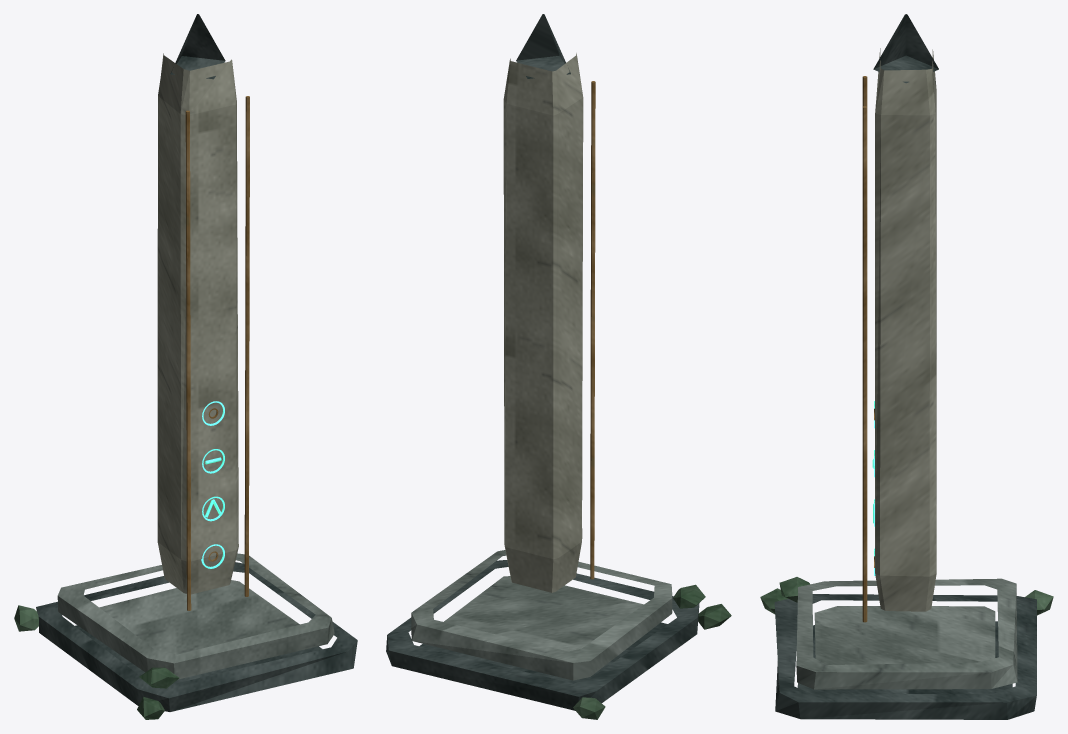
File: 0490_obelisk_15.glb
3 views of the same model, side by side, from view 1: azimuth 30°, elevation 25°; view 2: azimuth 150°, elevation 25°; view 3: azimuth 270°, elevation 25° (orthographic). The views are drawn at different scales.
Visible parts, largest first — view 1: stone_light, stone, stone_dark, brass, moss, glow; view 2: stone_light, stone, stone_dark, brass, moss; view 3: stone_light, stone, stone_dark, brass, moss.
Part boxes in pixels (box(x1,y1,x2,y2)): stone_light: box(157, 53, 238, 594); stone: box(57, 553, 334, 679); stone_dark: box(36, 14, 357, 711); brass: box(185, 96, 249, 610); moss: box(14, 605, 178, 719); glow: box(201, 401, 224, 568); stone_light: box(503, 53, 583, 592); stone: box(411, 550, 672, 680); stone_dark: box(386, 14, 699, 710); brass: box(590, 81, 595, 579); moss: box(573, 584, 731, 719); stone_light: box(875, 48, 936, 611); stone: box(796, 578, 1017, 689); stone_dark: box(774, 14, 1036, 719); brass: box(862, 76, 874, 622); moss: box(760, 577, 1053, 615).
Size of the model in its own units: 2 by 5.25 by 2.13.
Materials: 6 (6 with a texture image).
